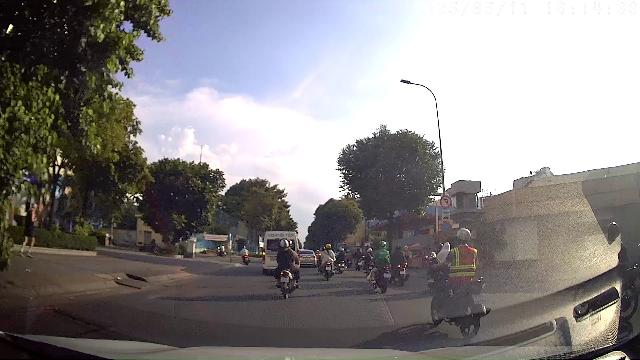123a-cam-re-trai: (440, 196, 452, 208)
